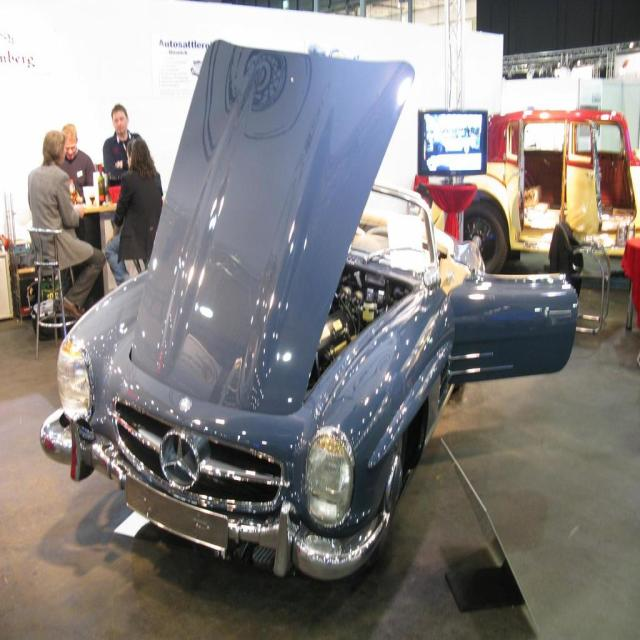car: (38, 35, 580, 582)
